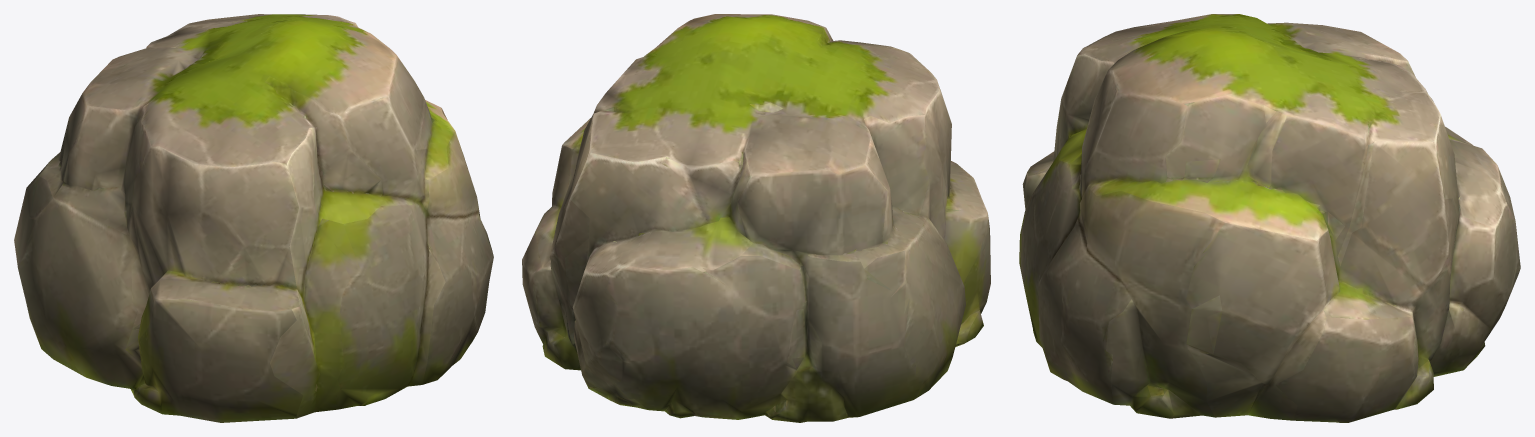
File: rock-verdant-boulder.glb
3 renders of one model, left to right at view 1: azimuth 30°, elevation 25°; view 2: azimuth 150°, elevation 25°; view 3: azimuth 270°, elevation 25°, orthographic. The views are drawn at different scales.
Visible parts, largest first — view 1: Mesh1.0; view 2: Mesh1.0; view 3: Mesh1.0.
Boxes of the visible parts, x1,y1,x2,y2 form: Mesh1.0: [14, 14, 493, 422]; Mesh1.0: [522, 14, 990, 422]; Mesh1.0: [1019, 14, 1520, 422].
Bounding box in the file's own units: 1.76 × 1.28 × 1.9.
1 material, 1 textured.
